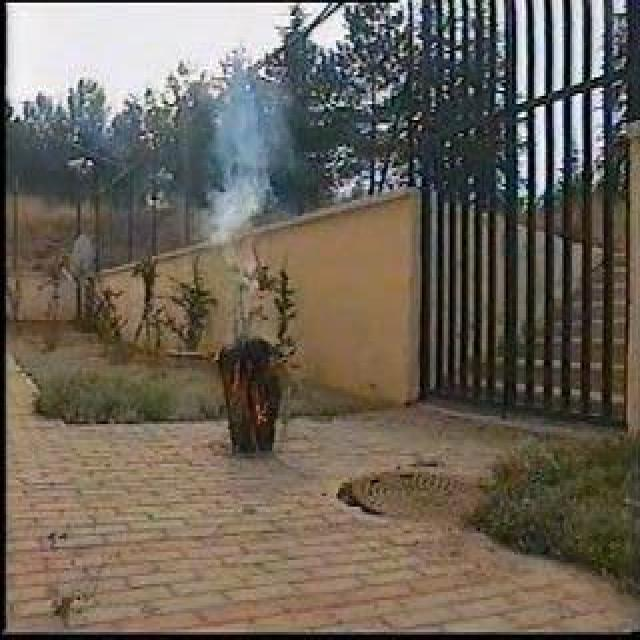fire: (224, 361, 248, 407)
smoke: (213, 60, 289, 247)
